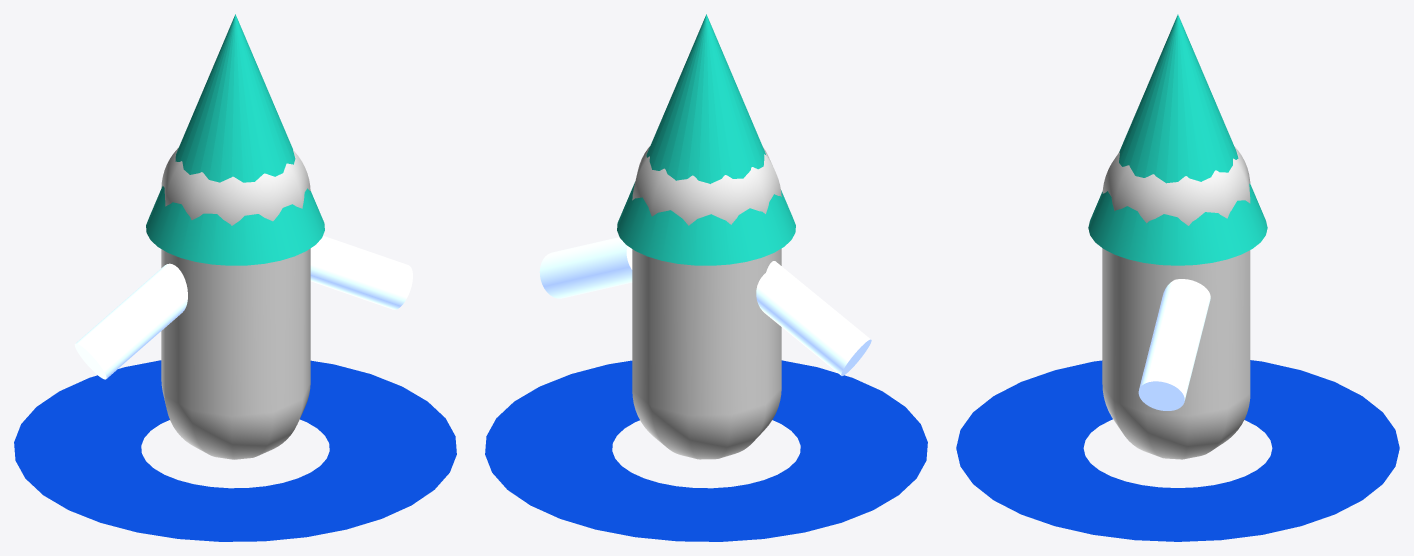
Rendered from Player.glb.
3 views of the same model, side by side, from view 1: azimuth 30°, elevation 25°; view 2: azimuth 150°, elevation 25°; view 3: azimuth 270°, elevation 25° (orthographic).
Visible parts, largest first — view 1: Ring, Capsule, Hat, Cylinder_1, Cylinder_2; view 2: Ring, Capsule, Hat, Cylinder_1, Cylinder_2; view 3: Ring, Capsule, Hat, Cylinder_2.
Part boxes in pixels (box(x1,y1,x2,y2)): Ring: box(14, 360, 456, 541); Capsule: box(161, 147, 310, 459); Hat: box(146, 14, 324, 265); Cylinder_1: box(74, 263, 187, 379); Cylinder_2: box(310, 235, 412, 309); Ring: box(485, 360, 927, 541); Capsule: box(632, 146, 781, 459); Hat: box(617, 14, 795, 265); Cylinder_1: box(756, 261, 871, 375); Cylinder_2: box(539, 237, 632, 298); Ring: box(956, 360, 1399, 541); Capsule: box(1102, 146, 1250, 459); Hat: box(1088, 14, 1267, 265); Cylinder_2: box(1138, 279, 1210, 410).
Size of the model in its own units: 1.88 by 2.05 by 1.88.
